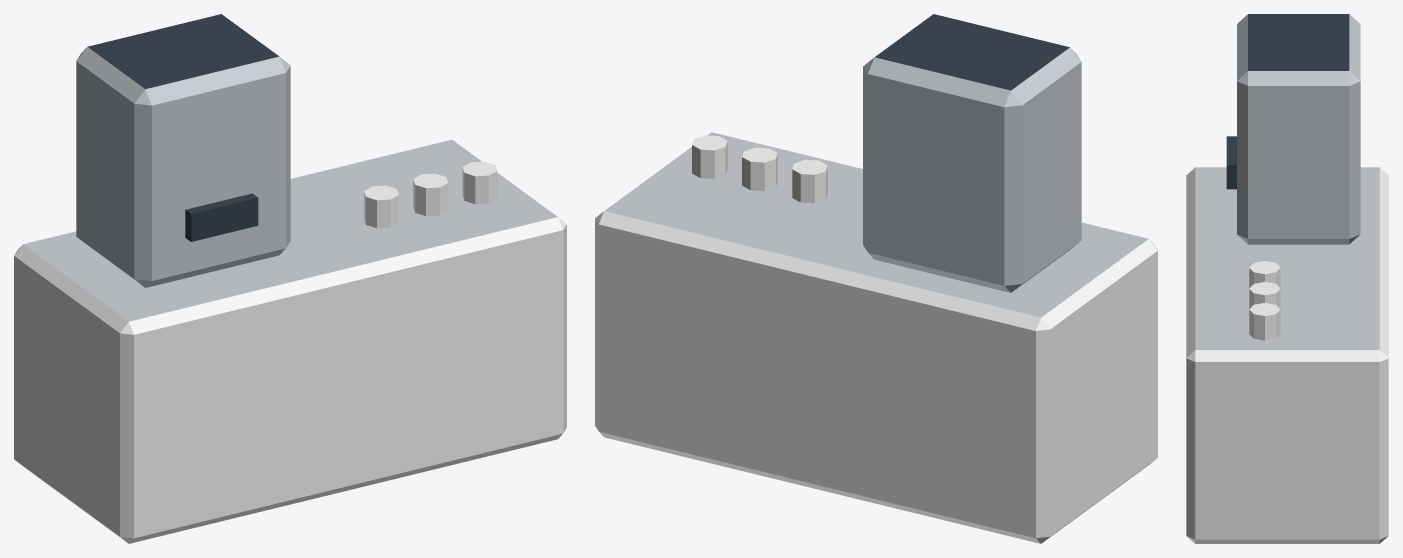
Rendered from coffee.fbx.
The picture shows the model from 3 angles, left to right: view 1: azimuth 30°, elevation 25°; view 2: azimuth 150°, elevation 25°; view 3: azimuth 270°, elevation 25°; orthographic projection. The views are drawn at different scales.
Visible parts, largest first — view 1: coffee; view 2: coffee; view 3: coffee.
Part boxes in pixels (left/top/right/bottom): coffee: left=14, top=14, right=566, bottom=543; coffee: left=595, top=14, right=1157, bottom=543; coffee: left=1186, top=14, right=1388, bottom=543.
Bounding box in the file's own units: 2 × 1.8 × 0.9.
